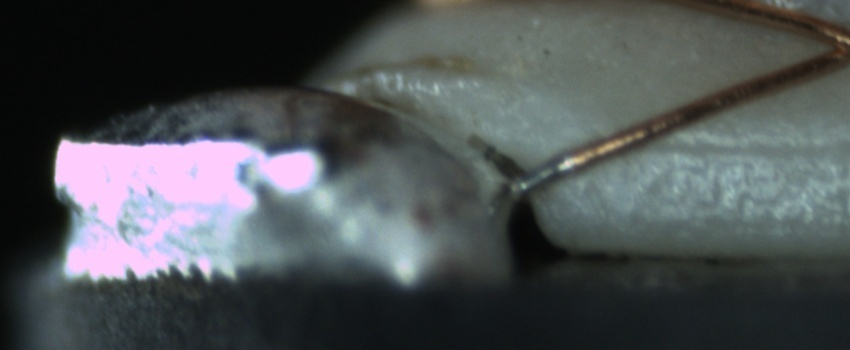CL: (799, 14, 850, 76)
DL: (632, 114, 850, 177)
TS: (517, 153, 575, 191)
